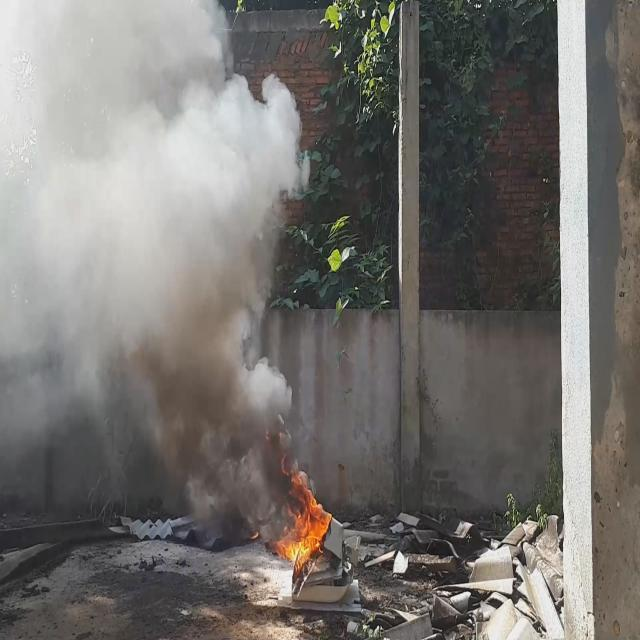Fire: (273, 469, 333, 574)
Smoke: (0, 0, 311, 538)
